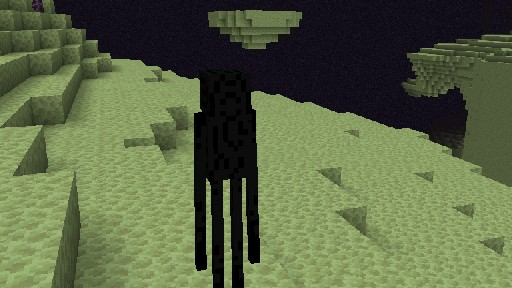enderman: (193, 68, 260, 288)
